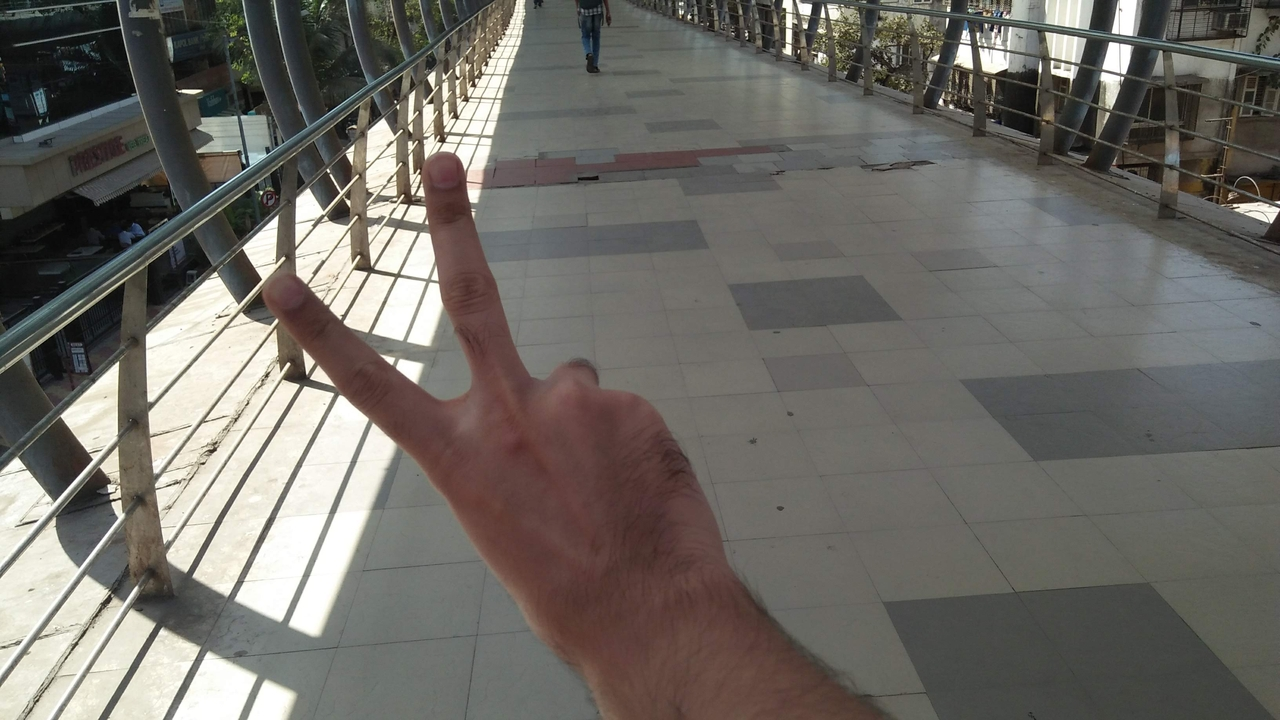fingertip: (260, 272, 312, 326), (416, 144, 468, 194)
